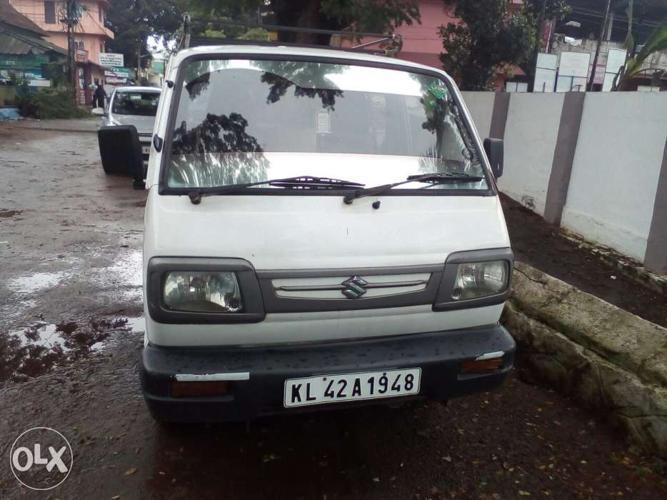van: (96, 27, 556, 433)
